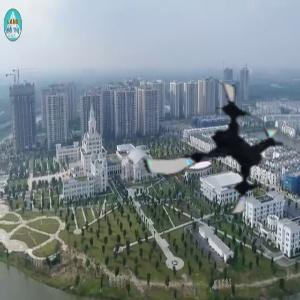drone: (142, 76, 290, 224)
